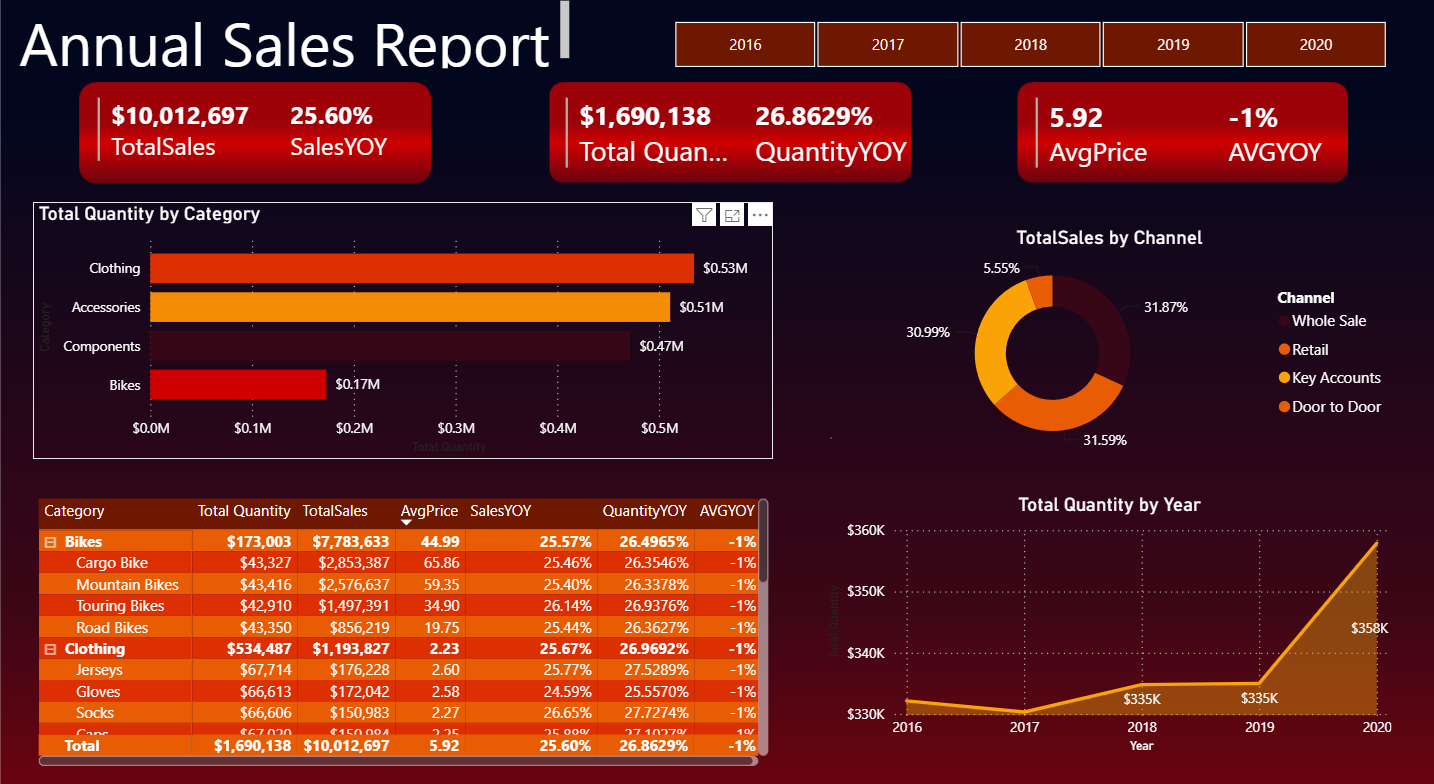

Layout of this report page (visuals, bound fields, positions):
{"tool":"powerbi","page":{"name":"main dashboardd","canvas":[1280,720],"ordinal":1},"visuals":[{"type":"textbox","box":[9.7,0,508.4,70.2],"z":0},{"type":"multiRowCard","fields":{"Values":["MeasuresTable.TotalSales","MeasuresTable.SalesYOY"]},"box":[89.6,86,339.6,75.4],"z":1000},{"type":"multiRowCard","fields":{"Values":["MeasuresTable.Total Quantity","MeasuresTable.QUNTITYYOY"]},"box":[504.5,86,334.3,75.4],"z":2000},{"type":"multiRowCard","fields":{"Values":["MeasuresTable.AvgPrice","MeasuresTable.AVGYOY"]},"box":[921.3,86,339.6,75.4],"z":3000},{"type":"clusteredBarChart","fields":{"Category":["Product.Category"],"Y":["MeasuresTable.Total Quantity"]},"box":[37.2,183.5,656.2,227.9],"z":4000},{"type":"donutChart","fields":{"Y":["MeasuresTable.TotalSales"],"Category":["Channel.Channel"]},"box":[736.8,204.8,509.9,206.6],"z":5000},{"type":"slicer","fields":{"Values":["Calendar.Year"]},"box":[580.4,16.7,680.5,53.6],"z":6000},{"type":"stackedAreaChart","fields":{"Category":["Calendar.Year"],"Y":["MeasuresTable.Total Quantity"]},"box":[736.8,441.6,509.9,235],"z":7000},{"type":"pivotTable","fields":{"Rows":["Product.Category","Product.Product"],"Values":["MeasuresTable.Total Quantity","MeasuresTable.TotalSales","MeasuresTable.AvgPrice","MeasuresTable.SalesYOY","MeasuresTable.QUNTITYYOY","MeasuresTable.AVGYOY"]},"box":[36.9,441.7,656.8,246.7],"z":8000}]}

Visuals, with their boxes in screenshot pixels (x1, y1, x2, y2), scaled from the page's 1280x720 canvas onto the 1434x784 screenshot:
textbox: 11/0/580/76
multiRowCard - MeasuresTable.TotalSales x MeasuresTable.SalesYOY: 100/94/481/176
multiRowCard - MeasuresTable.Total Quantity x MeasuresTable.QUNTITYYOY: 565/94/940/176
multiRowCard - MeasuresTable.AvgPrice x MeasuresTable.AVGYOY: 1032/94/1413/176
clusteredBarChart - Product.Category x MeasuresTable.Total Quantity: 42/200/777/448
donutChart - MeasuresTable.TotalSales x Channel.Channel: 825/223/1397/448
slicer - Calendar.Year: 650/18/1413/77
stackedAreaChart - Calendar.Year x MeasuresTable.Total Quantity: 825/481/1397/737
pivotTable - Product.Category x Product.Product: 41/481/777/750
